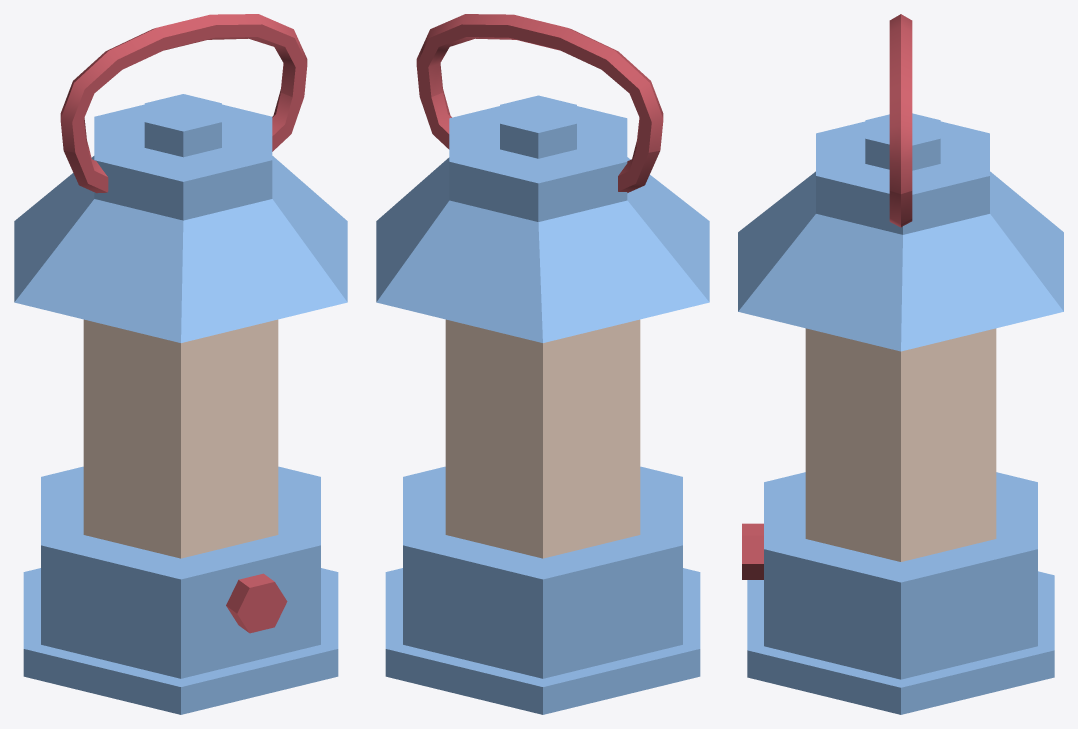
The model's file is LampModel_Fish_01.fbx.
The picture shows the model from 3 angles, left to right: view 1: azimuth 30°, elevation 25°; view 2: azimuth 150°, elevation 25°; view 3: azimuth 270°, elevation 25°; orthographic projection. The views are drawn at different scales.
Parts seen in each view (by area): view 1: pCylinder3, pCylinder1, pCylinder2, pCylinder6, pCylinder7; view 2: pCylinder3, pCylinder1, pCylinder2, pCylinder6; view 3: pCylinder3, pCylinder1, pCylinder2, pCylinder6, pCylinder7.
Part boxes in pixels (x1,y1,x2,y2): pCylinder3: (14,94,347,342); pCylinder1: (23,466,338,714); pCylinder2: (83,319,278,558); pCylinder6: (60,14,307,193); pCylinder7: (226,573,287,633); pCylinder3: (376,95,709,342); pCylinder1: (385,466,700,714); pCylinder2: (445,319,640,558); pCylinder6: (416,14,663,192); pCylinder3: (738,113,1063,351); pCylinder1: (747,472,1054,714); pCylinder2: (805,328,996,561); pCylinder6: (889,14,912,227); pCylinder7: (742,523,763,579).
Size of the model in its own units: 2.96 by 5.24 by 2.57.
